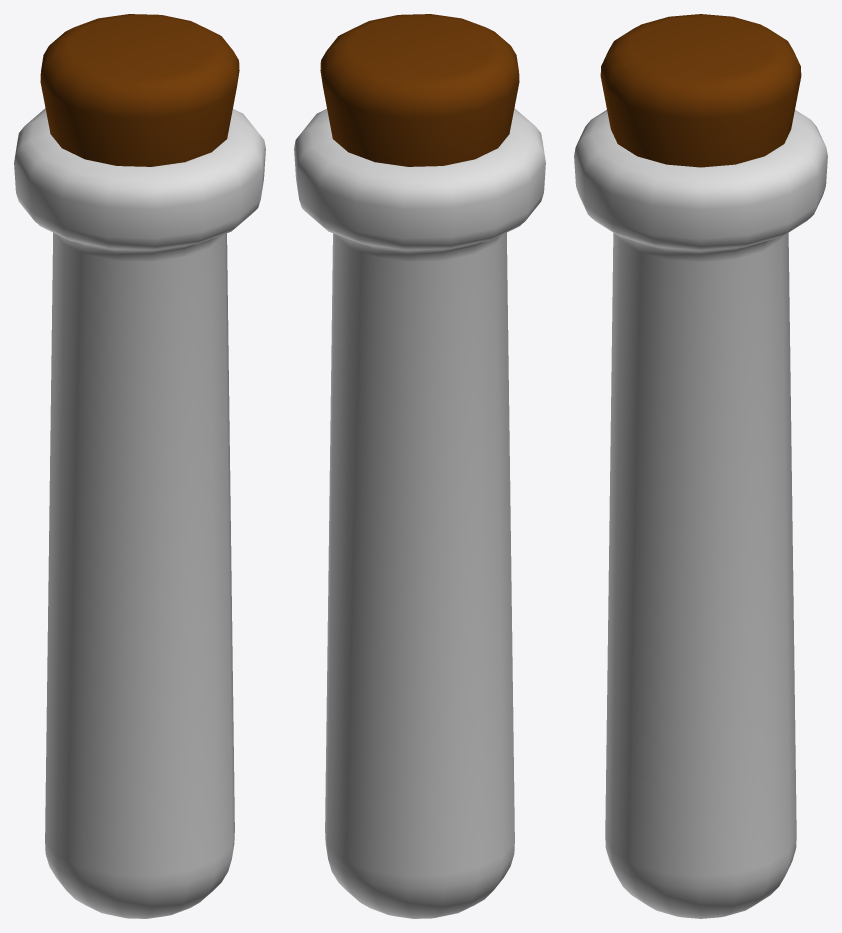
The model's file is Potion Containers 4.fbx.
3 renders of one model, left to right at view 1: azimuth 30°, elevation 25°; view 2: azimuth 150°, elevation 25°; view 3: azimuth 270°, elevation 25°, orthographic.
Parts seen in each view (by area): view 1: test_tube4; view 2: test_tube4; view 3: test_tube4.
Part boxes in pixels (x1,y1,x2,y2): test_tube4: (14,14,265,918); test_tube4: (294,14,545,918); test_tube4: (574,14,827,918).
Bounding box in the file's own units: 2.79 × 10.38 × 2.79.
